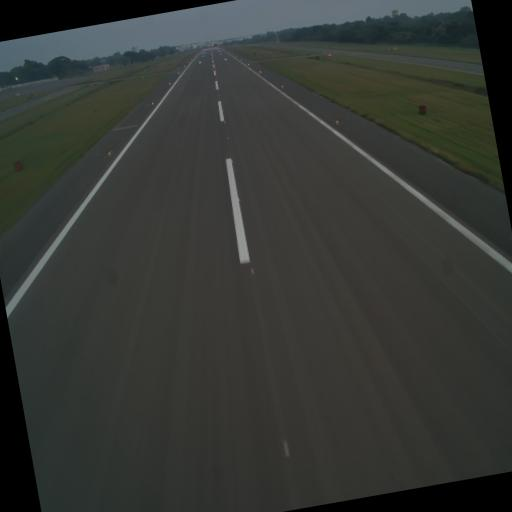on: (246, 264, 258, 278), (228, 156, 238, 170), (105, 148, 114, 160), (234, 193, 242, 206), (332, 116, 341, 126), (221, 116, 228, 126), (224, 131, 230, 142)
